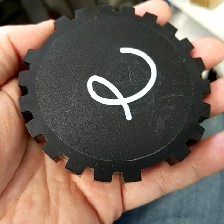gear: (16, 3, 212, 184)
missing: (121, 143, 192, 182), (25, 14, 69, 67)
